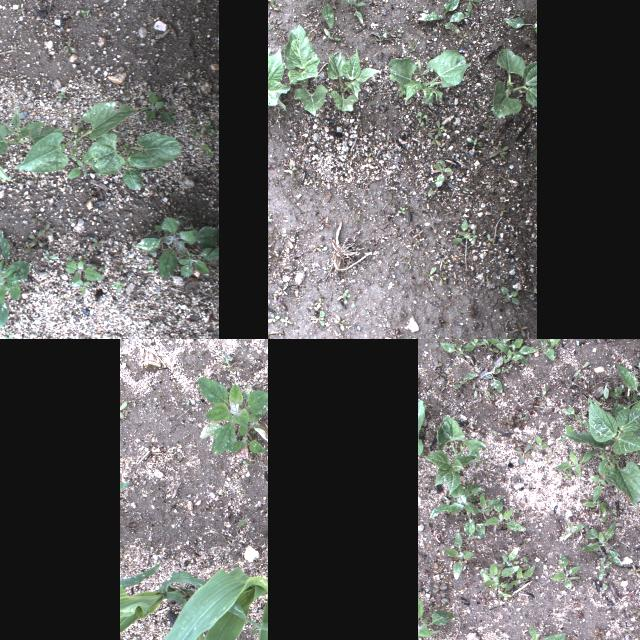crop: (120, 561, 268, 640), (125, 566, 268, 640), (10, 100, 140, 172), (563, 399, 640, 507), (80, 130, 184, 188), (386, 44, 470, 106), (424, 414, 486, 494), (284, 21, 328, 117), (326, 45, 382, 113), (490, 46, 536, 118), (0, 109, 65, 153), (268, 43, 288, 115)
weed: (134, 213, 218, 280), (196, 376, 268, 453), (0, 229, 30, 331), (288, 0, 374, 27), (413, 0, 482, 31), (430, 482, 484, 518), (582, 522, 624, 568), (610, 359, 640, 415), (443, 532, 475, 582), (552, 449, 596, 479), (490, 339, 537, 367), (486, 502, 526, 532), (144, 90, 174, 128), (480, 559, 520, 587), (420, 609, 453, 640), (552, 554, 582, 588), (500, 625, 567, 640), (66, 257, 104, 283), (429, 156, 456, 190), (482, 354, 503, 392), (450, 215, 476, 245), (440, 341, 472, 364), (497, 282, 523, 310), (419, 264, 449, 288), (590, 457, 608, 497), (503, 8, 535, 30), (462, 496, 500, 514), (450, 368, 478, 392), (426, 115, 446, 148), (509, 562, 536, 586), (533, 339, 562, 361), (66, 154, 88, 182), (276, 154, 300, 178), (594, 558, 610, 594), (496, 546, 522, 568), (486, 141, 514, 161), (370, 28, 400, 46), (479, 226, 498, 254), (592, 382, 622, 398), (417, 595, 427, 637), (268, 309, 291, 327), (308, 309, 328, 329), (465, 518, 485, 538), (566, 520, 588, 538), (463, 132, 487, 148), (334, 286, 354, 304), (564, 406, 584, 424), (418, 398, 424, 456), (24, 230, 41, 250), (508, 320, 526, 338), (89, 234, 105, 254), (412, 108, 428, 128), (321, 24, 341, 40), (61, 36, 78, 54), (44, 246, 60, 264), (572, 360, 590, 376), (530, 436, 552, 449), (39, 218, 53, 238), (581, 497, 609, 507), (516, 442, 530, 462), (72, 5, 91, 19), (361, 144, 373, 166), (26, 210, 44, 224), (187, 120, 201, 138), (599, 508, 617, 522), (429, 582, 448, 594), (199, 142, 213, 158), (626, 561, 640, 577), (12, 1, 26, 16), (470, 380, 480, 400), (112, 276, 126, 290), (532, 384, 548, 396), (430, 368, 446, 380), (503, 411, 513, 429), (393, 203, 409, 214), (467, 339, 489, 347), (268, 0, 280, 14), (56, 86, 66, 102), (487, 582, 507, 590), (514, 412, 528, 423), (207, 120, 216, 136), (592, 627, 604, 639), (486, 423, 498, 435), (4, 324, 14, 338), (435, 592, 449, 602), (474, 593, 488, 603), (496, 590, 510, 598), (120, 400, 126, 418), (119, 480, 129, 490), (527, 398, 537, 408), (634, 361, 640, 377), (483, 390, 492, 400), (622, 627, 632, 635), (488, 346, 498, 354), (561, 473, 573, 479), (564, 423, 574, 429), (558, 436, 568, 442), (12, 40, 16, 51), (584, 510, 592, 514)
